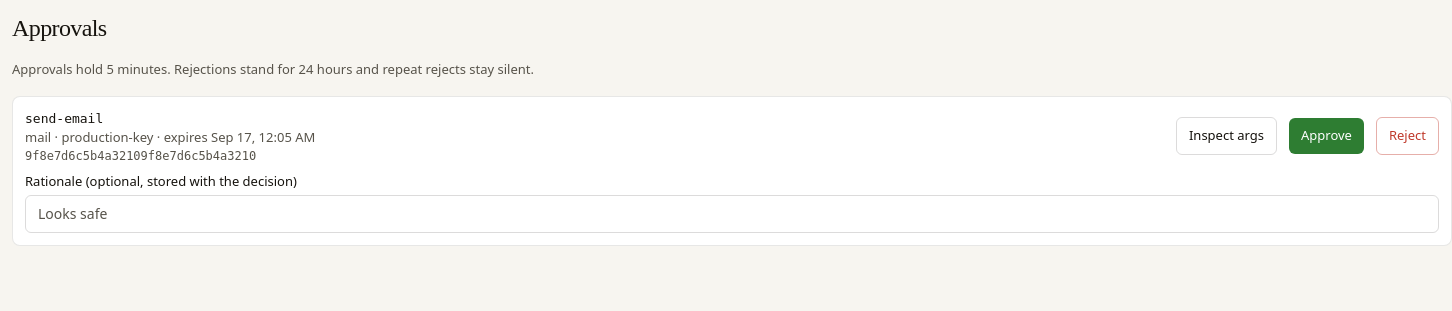
Test case: ApprovalsPage › names gone invocations honestly when the detail is empty
Click the button "Inspect args" at point(1226, 136), box [1176, 117, 1277, 155]
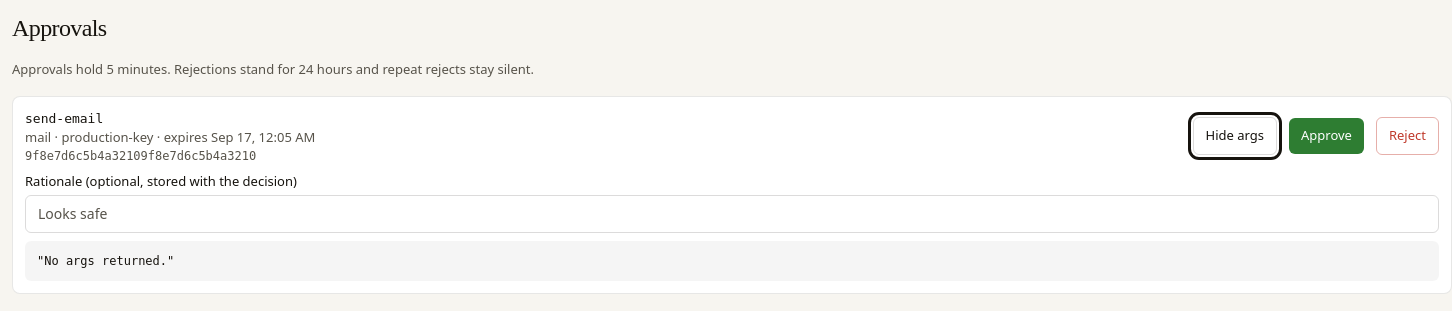
Check: the text "\"No args returned.\"" is shown, box [25, 241, 1439, 281]
